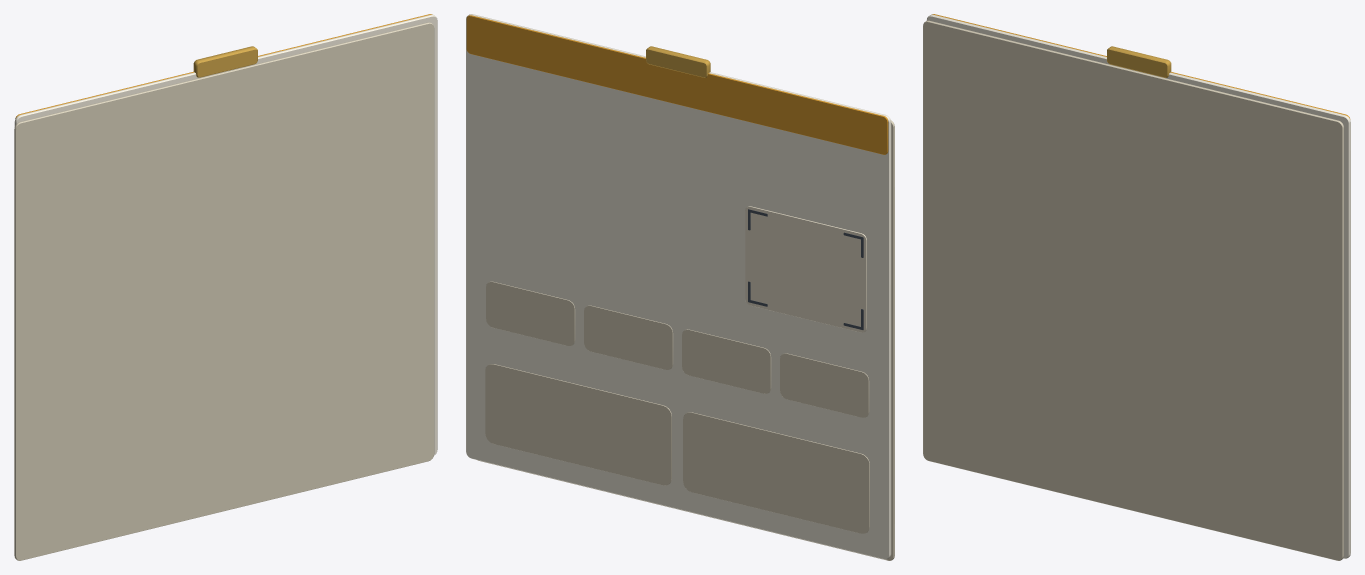
Rendered from Doc_PaperV2_Expanded.fbx.
The picture shows the model from 3 angles, left to right: view 1: azimuth 30°, elevation 25°; view 2: azimuth 150°, elevation 25°; view 3: azimuth 330°, elevation 25°; orthographic projection.
Parts seen in each view (by area): view 1: PaperExp_PaperEdge, PaperExp_Paper, PaperExp_Brass, ModeBand; view 2: PaperExp_Paper, PaperExp_PaperEdge, ModeBand, StampZone_Pad, PaperExp_Brass; view 3: PaperExp_PaperEdge, PaperExp_Paper, PaperExp_Brass, ModeBand.
Part boxes in pixels (x1,y1,x2,y2): PaperExp_PaperEdge: (14, 22, 434, 560); PaperExp_Paper: (14, 14, 437, 455); PaperExp_Brass: (193, 46, 257, 77); ModeBand: (15, 14, 432, 118); PaperExp_Paper: (466, 14, 891, 559); PaperExp_PaperEdge: (477, 120, 894, 560); ModeBand: (466, 15, 888, 154); StampZone_Pad: (745, 206, 866, 332); PaperExp_Brass: (646, 46, 710, 77); PaperExp_PaperEdge: (923, 20, 1343, 560); PaperExp_Paper: (926, 14, 1350, 558); PaperExp_Brass: (1107, 46, 1171, 77); ModeBand: (932, 14, 1350, 119).
Size of the model in its own units: 30.15 by 30.9 by 0.57.
